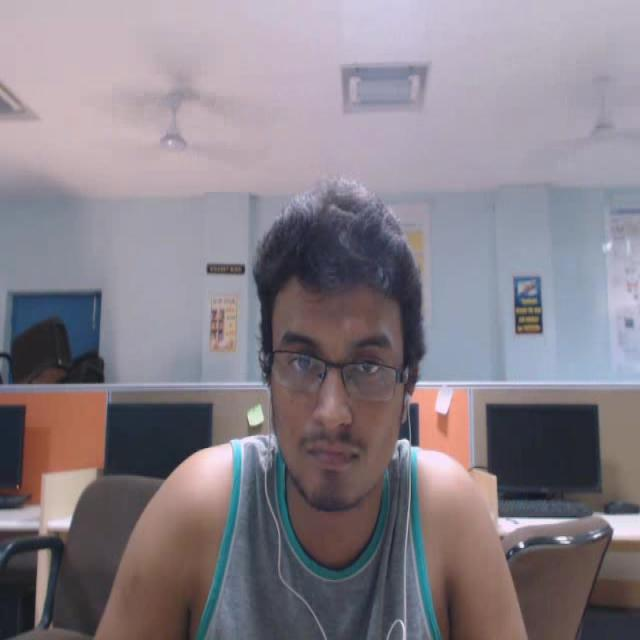Engaged: (249, 147, 455, 529)
